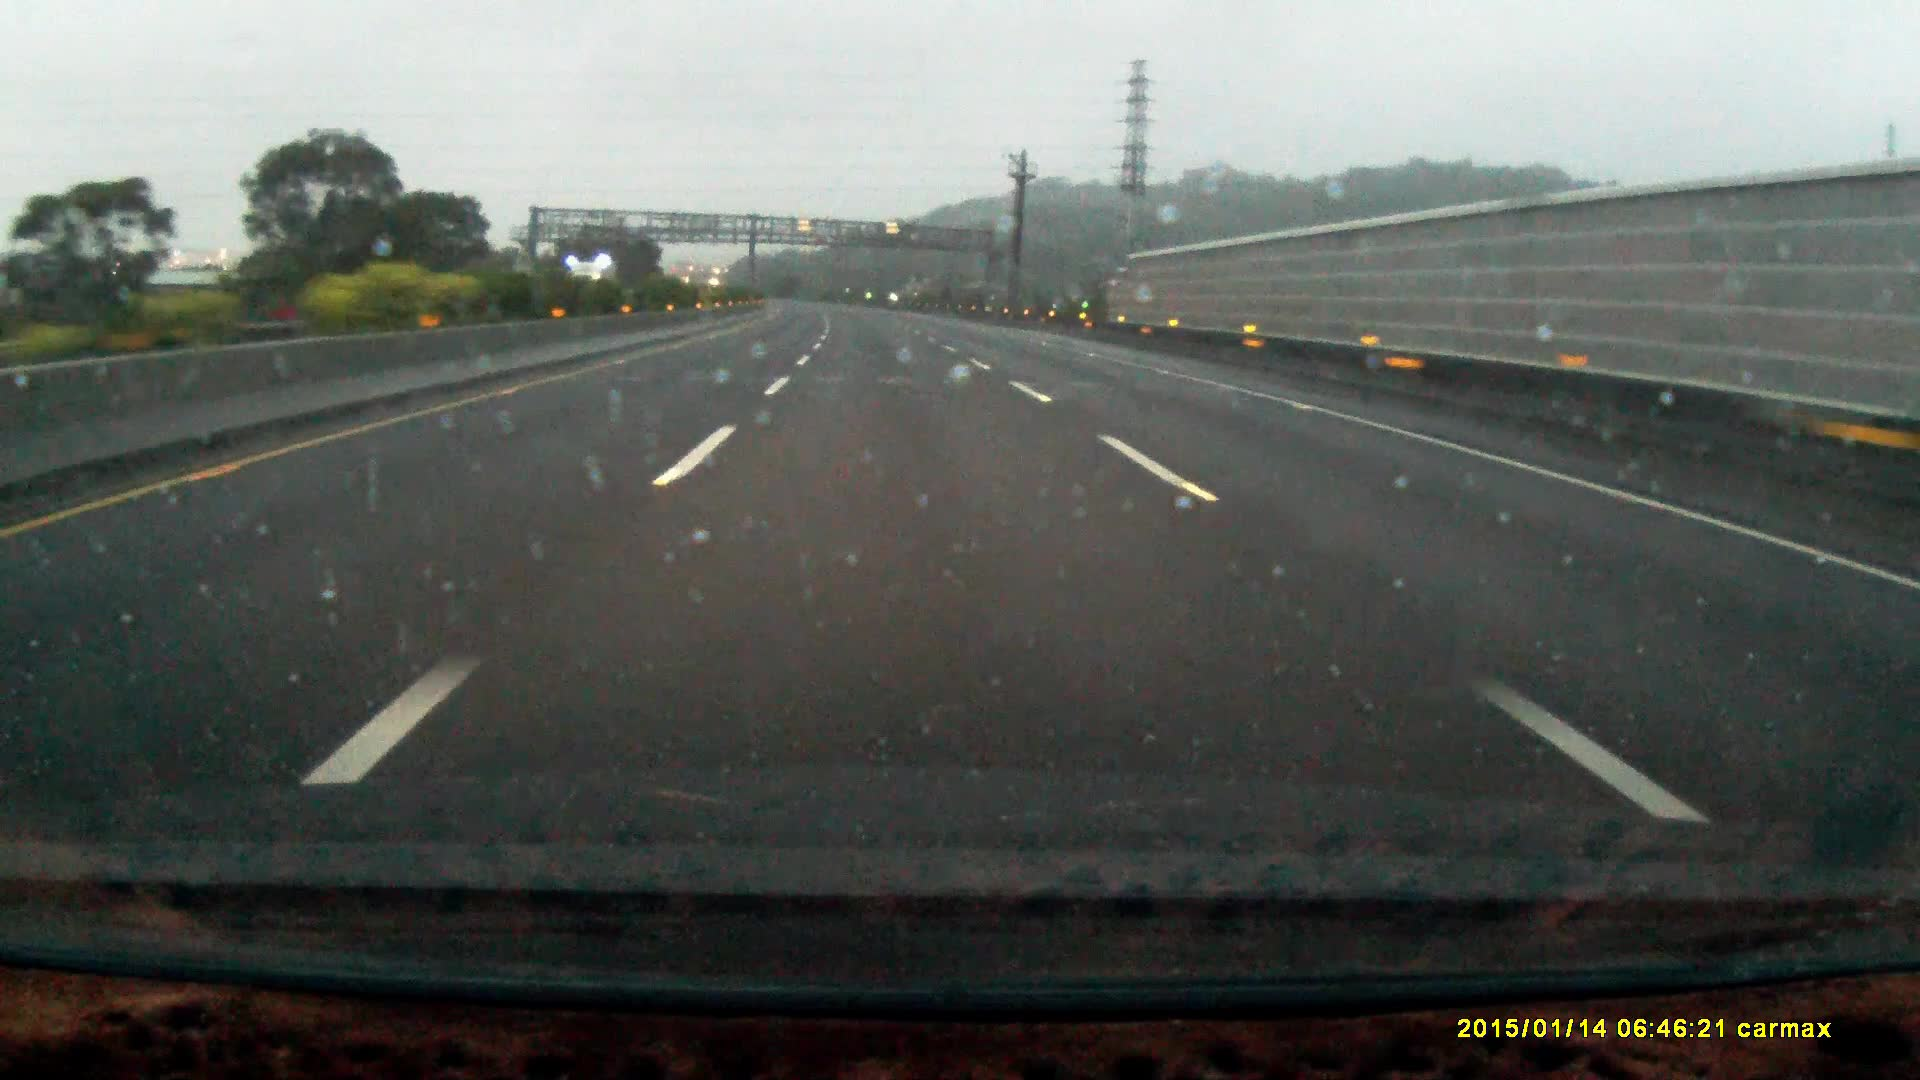vehicle: (567, 258, 617, 315)
